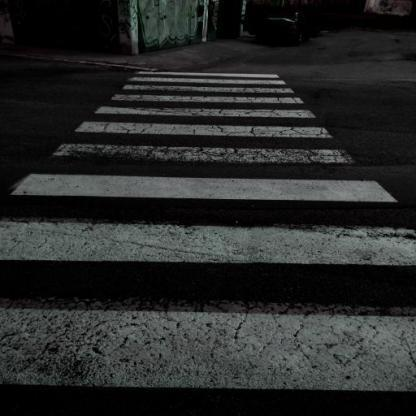crosswalk: (0, 209, 416, 404), (43, 119, 367, 170), (101, 82, 310, 106)
